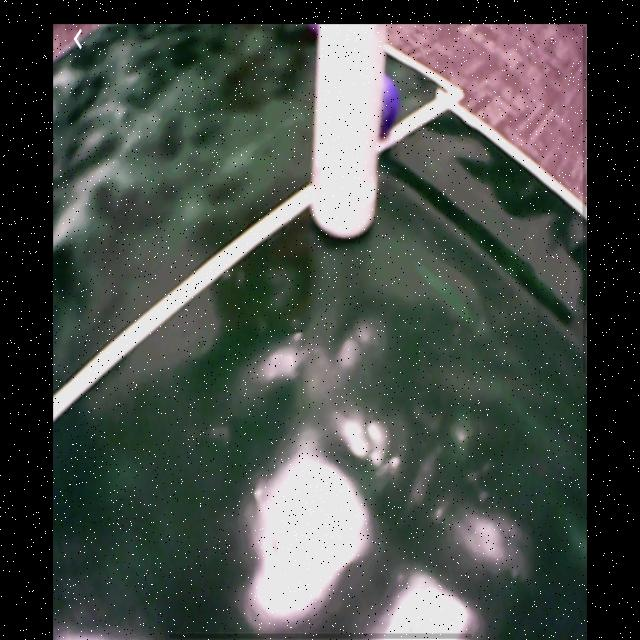ball: (381, 72, 398, 143)
